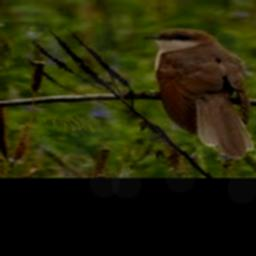Cuckoo: (141, 28, 255, 158)
